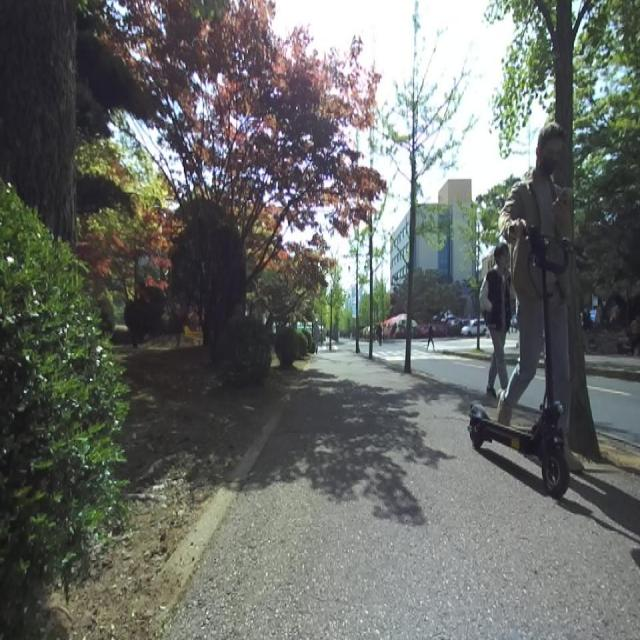sidewalk: (166, 348, 640, 639)
